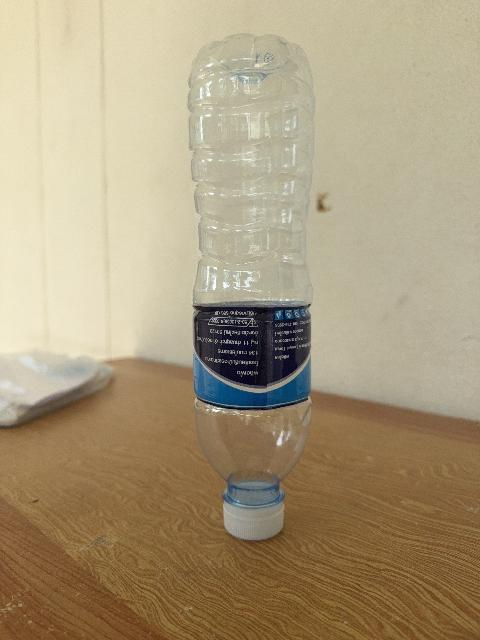bottle: (189, 34, 314, 539)
